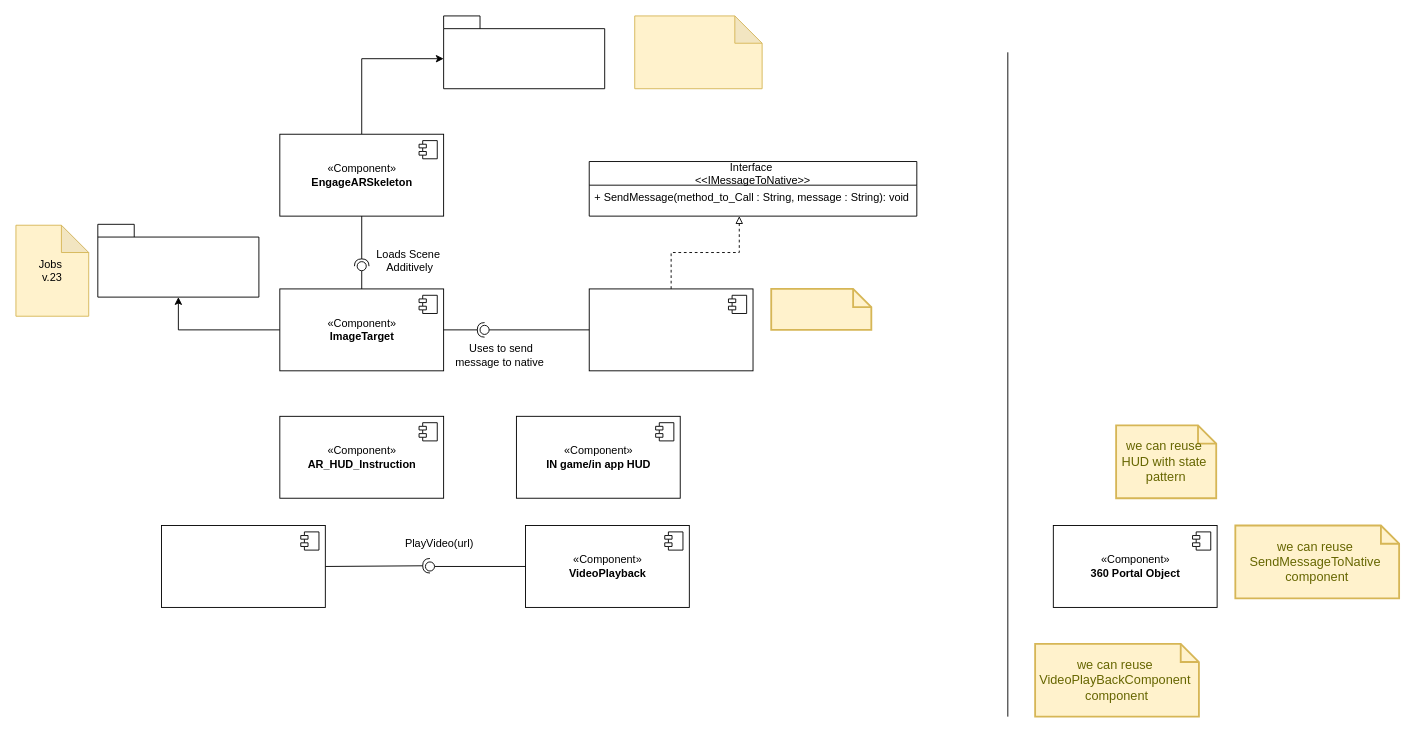
The diagram is 1416 pixels wide and 733 high, and some of its shapes have lost their labels. The shapes that lost their labels are listed below. From the top down, each one's centre as x and y in pixels, then its label:
At point 524,52: "ARFoundation".
At point 698,52: "ARFoundation v.3.0.1 ARcoreXR plugin v.3.0.1 ARKitXR plugin v.3.0.1".
At point 178,260: "Unity's Job system".
At point 670,329: "«Component» SendMessageToNative".
At point 821,309: "it should be singleton".
At point 243,566: "«Component» ARVideoObject".
